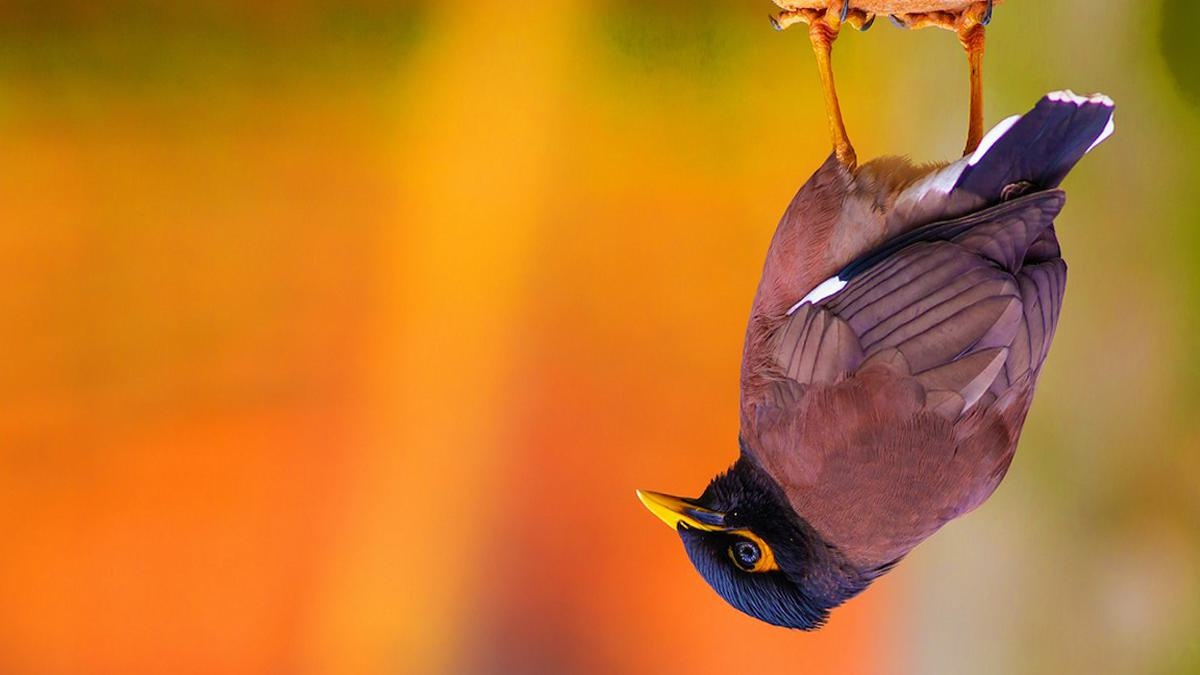myna: (641, 44, 1085, 645)
